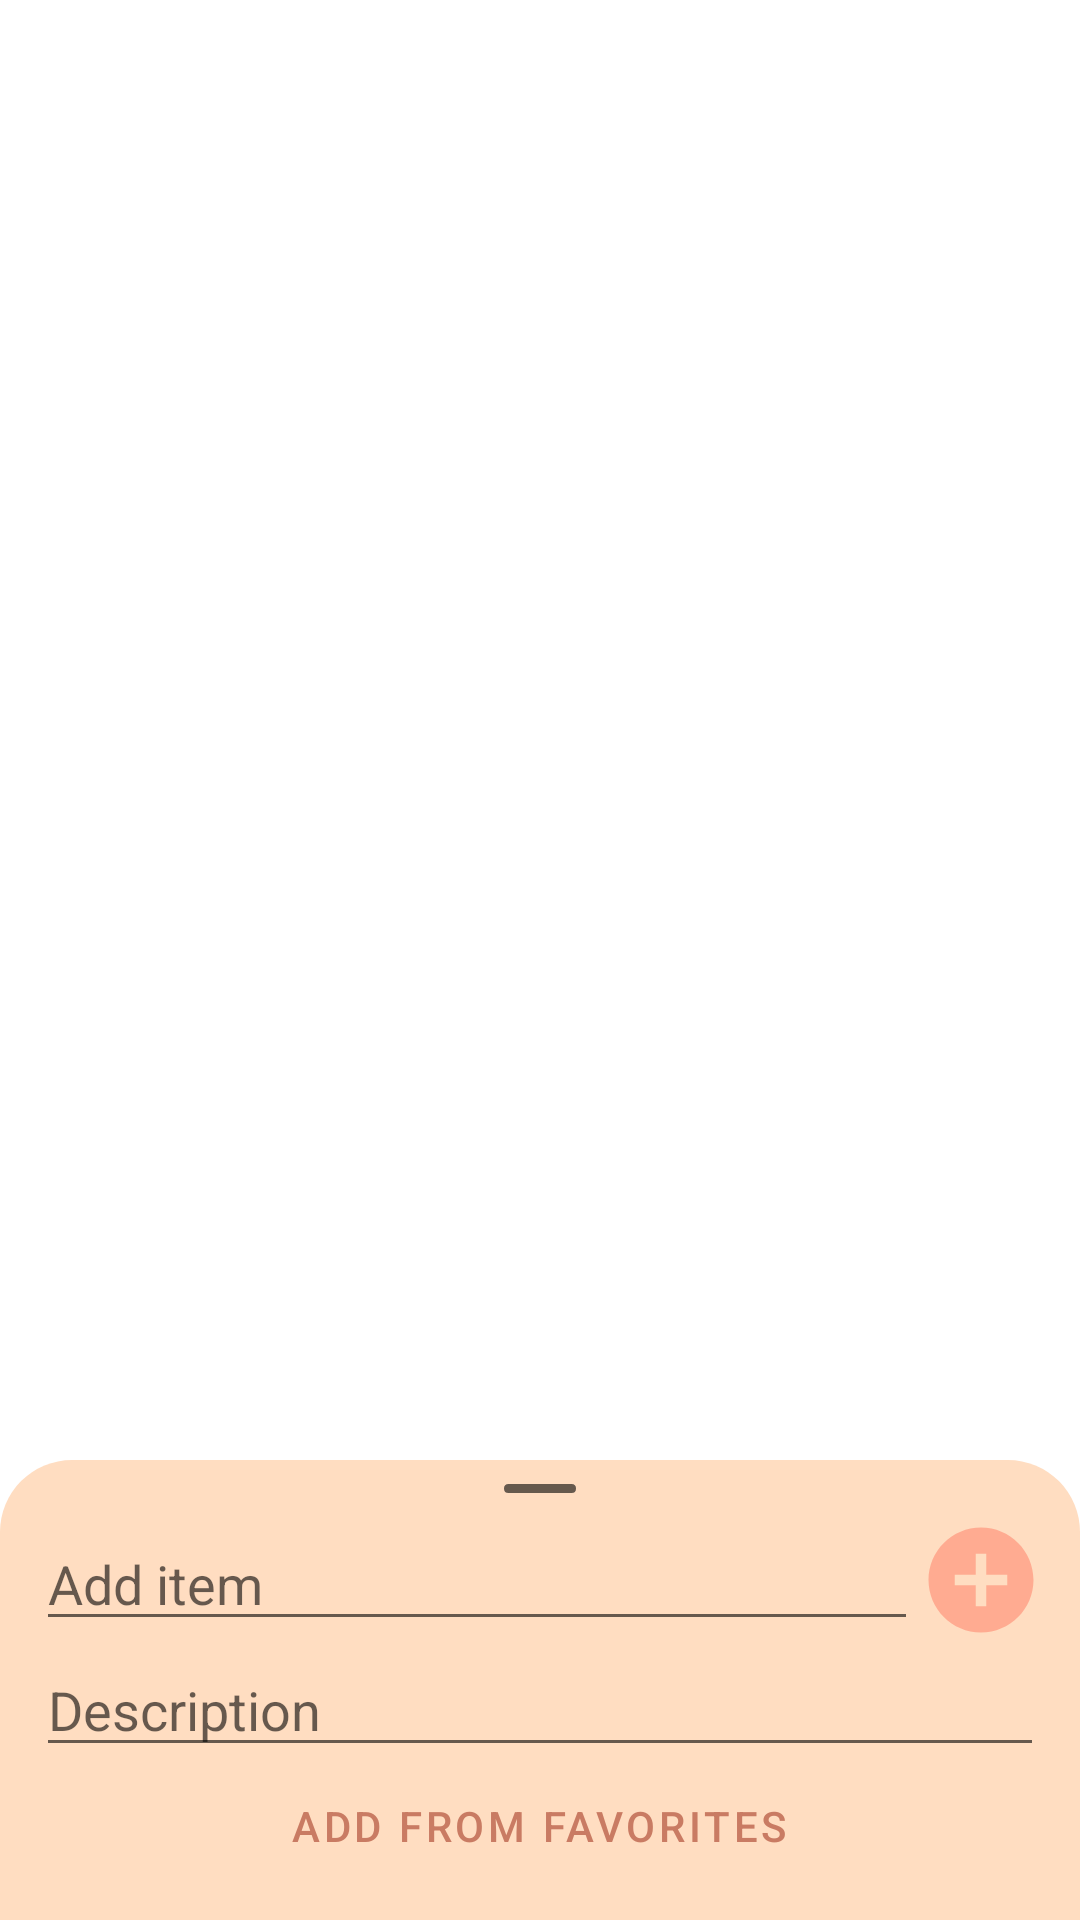

Icons on this 1080px x 1920px Android screen, each with its box as (x1, y1, x2, y2):
add circle: (928, 1528, 1033, 1632)
